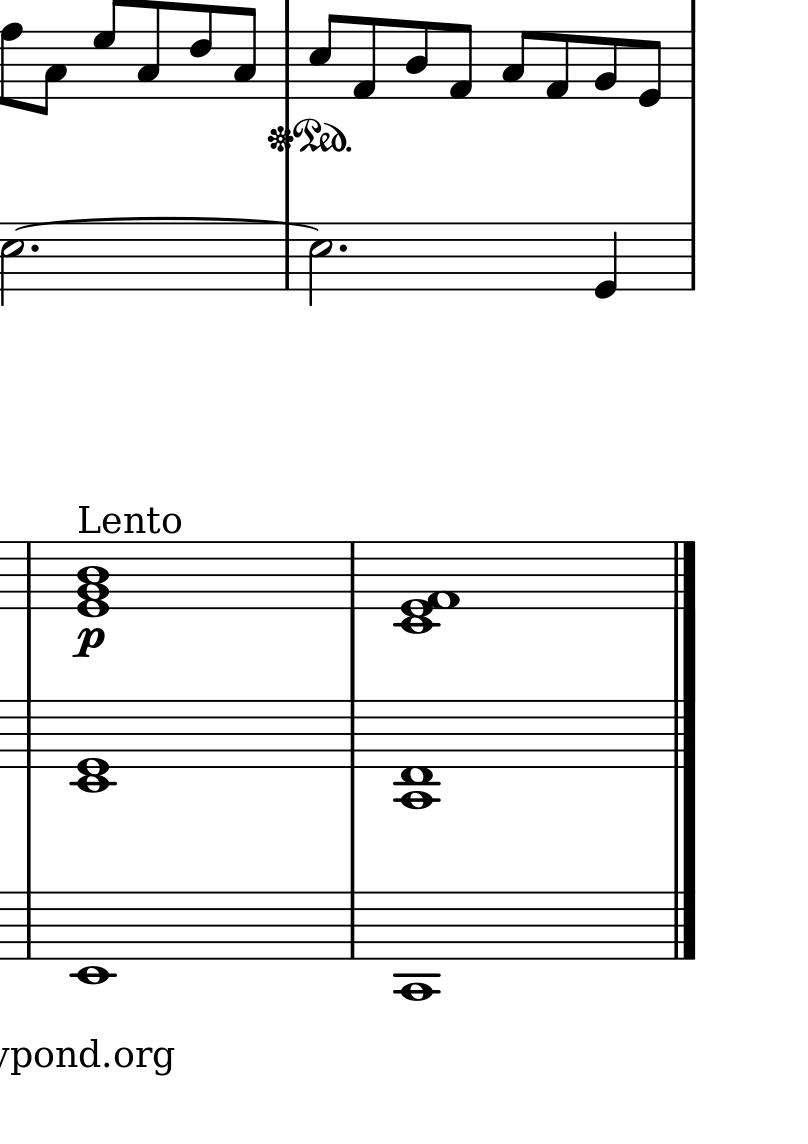1_-2: (74, 889, 110, 988)
1_-2_0: (72, 698, 117, 794)
1_-4: (394, 889, 439, 1003)
1_-4_-1: (395, 699, 443, 811)
1_th: (398, 538, 464, 635), (76, 536, 114, 618)
2_5: (307, 221, 334, 307), (1, 221, 25, 305)
4_0: (592, 220, 620, 301)
8_0: (636, 30, 664, 109)
8_1: (351, 15, 379, 101), (447, 21, 475, 101), (544, 29, 572, 101)
8_2: (592, 29, 620, 100)
8_3: (35, 29, 69, 117), (135, 1, 163, 102), (232, 5, 258, 101), (501, 29, 533, 101)
8_4: (404, 19, 431, 100)
8_5: (307, 12, 339, 100)
8_6: (188, 1, 214, 102)
8_7: (92, 1, 122, 99)
8_8: (1, 21, 24, 111)
Final_barline: (669, 698, 698, 766), (669, 890, 697, 959), (670, 540, 699, 606)
Single_barline: (341, 699, 364, 768), (342, 542, 363, 609), (19, 700, 38, 768), (343, 892, 362, 959), (278, 31, 296, 99), (683, 223, 701, 291), (19, 892, 37, 959), (20, 542, 37, 609), (683, 32, 700, 98), (279, 233, 298, 290)
Slur: (14, 215, 317, 231)
dot: (336, 240, 350, 256), (28, 242, 41, 255)
p: (73, 626, 106, 659)
